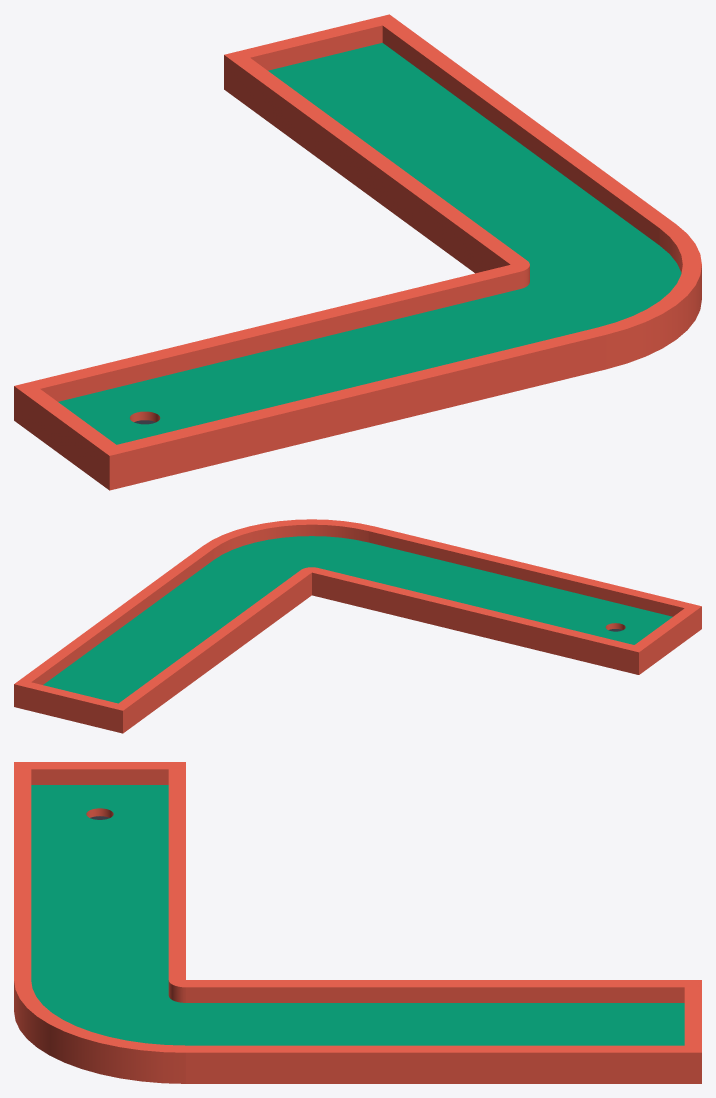
Rendered from Hole1Unmerged.obj.
3 renders of one model, top to bottom at view 1: azimuth 30°, elevation 25°; view 2: azimuth 150°, elevation 25°; view 3: azimuth 270°, elevation 25°, orthographic. The views are drawn at different scales.
Visible parts, largest first — view 1: straight, end_hole, end, bend; view 2: straight, end_hole, end, bend; view 3: straight, end, end_hole, bend.
Part boxes in pixels (x1,y1,x2,y2): straight: (180, 84, 675, 449); end_hole: (14, 345, 275, 490); end: (224, 14, 484, 158); bend: (511, 224, 701, 369); straight: (77, 526, 592, 687); end_hole: (530, 579, 701, 674); end: (14, 638, 185, 733); bend: (203, 519, 374, 578); straight: (14, 834, 529, 1083); end: (530, 980, 701, 1083); end_hole: (14, 762, 185, 850); bend: (14, 980, 185, 1083).
Bounding box in the file's own units: 4 × 0.2 × 4.
